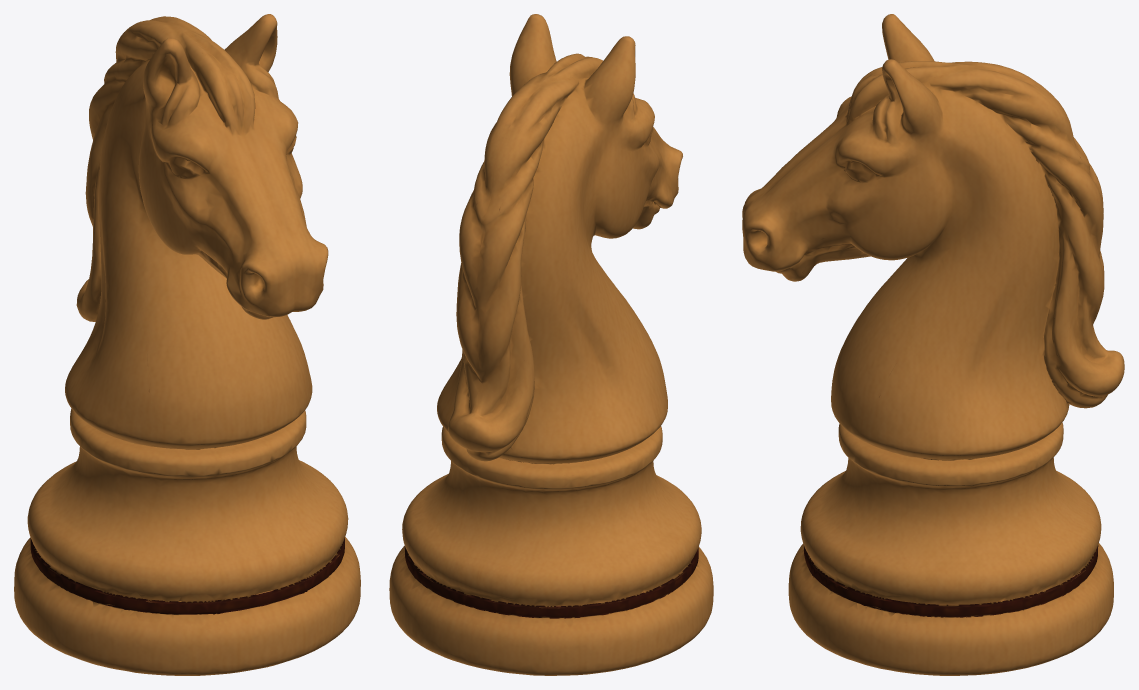
Rendered from 07_knight_light.glb.
3 views of the same model, side by side, from view 1: azimuth 30°, elevation 25°; view 2: azimuth 150°, elevation 25°; view 3: azimuth 270°, elevation 25° (orthographic). The views are drawn at different scales.
Visible parts, largest first — view 1: world; view 2: world; view 3: world.
Boxes of the visible parts, x1,y1,x2,y2 form: world: [14, 14, 360, 675]; world: [389, 14, 713, 675]; world: [742, 14, 1124, 675].
Bounding box in the file's own units: 0.5224 × 1 × 0.6067.
Materials: 1 (1 with a texture image).
